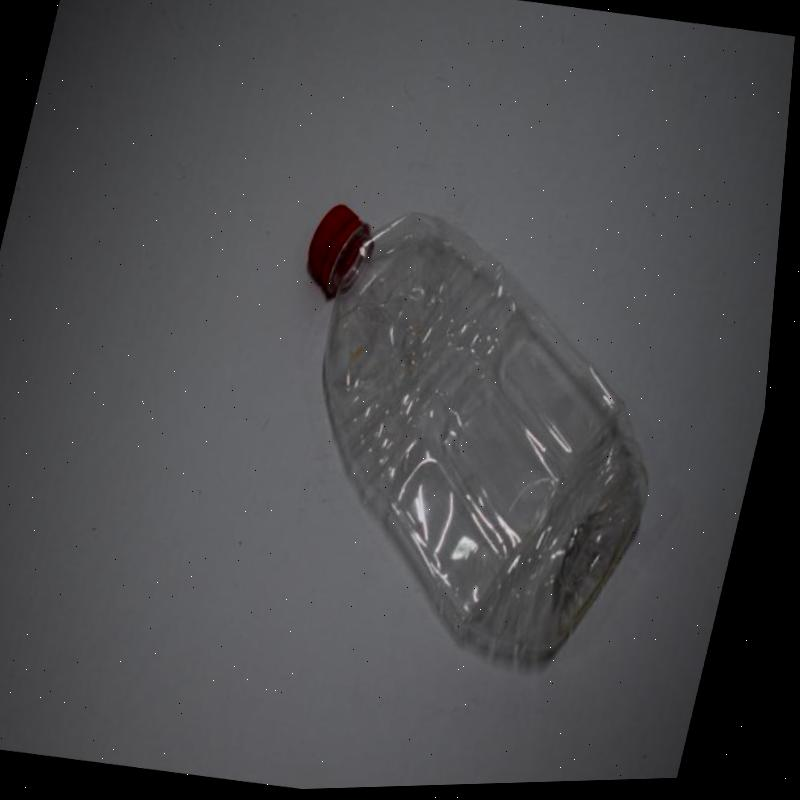botella: (226, 185, 714, 689)
